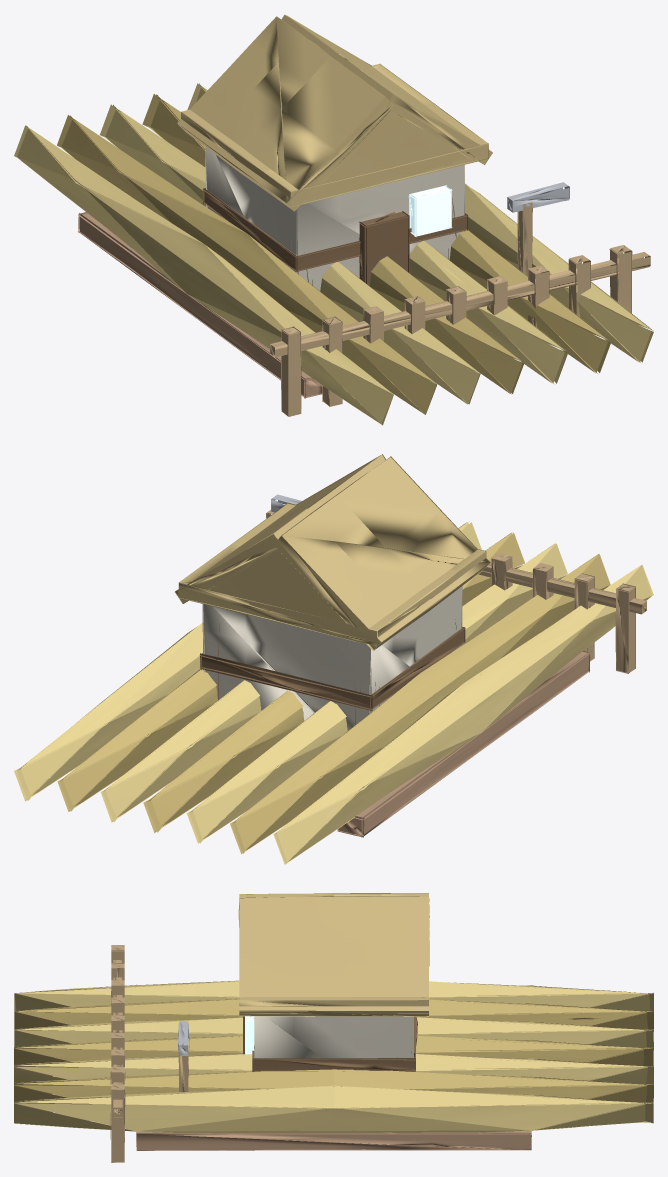
File: farm.glb
3 views of the same model, one above another, from view 1: azimuth 30°, elevation 25°; view 2: azimuth 150°, elevation 25°; view 3: azimuth 270°, elevation 25° (orthographic). The views are drawn at different scales.
Visible parts, largest first — view 1: Furrow0; view 2: Furrow0; view 3: Furrow0.
Part boxes in pixels (x1,y1,x2,y2): Furrow0: (14,14,653,425); Furrow0: (14,454,653,864); Furrow0: (14,893,653,1162).
Bounding box in the file's own units: 2 × 1.26 × 3.4.
